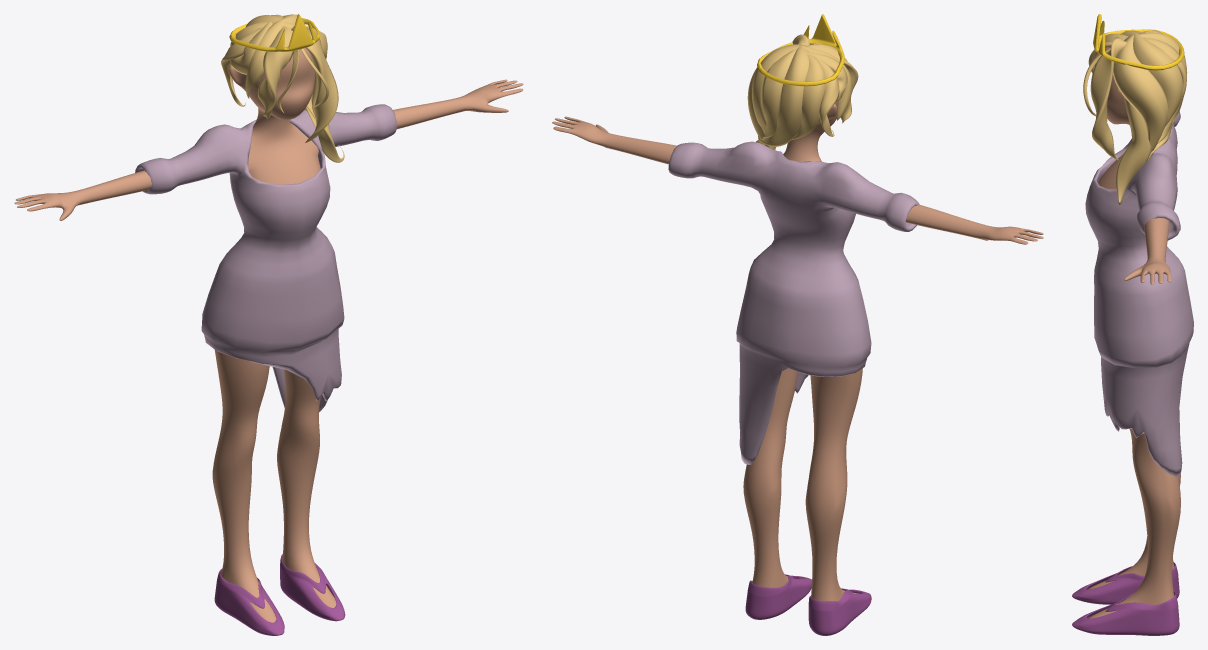
File: princess.glb
3 views of the same model, side by side, from view 1: azimuth 30°, elevation 25°; view 2: azimuth 150°, elevation 25°; view 3: azimuth 270°, elevation 25° (orthographic). The views are drawn at different scales.
Visible parts, largest first — view 1: PinkDress, FemaleBody, FemaleFeet, NurbsPath.016, NurbsPath.017, Circle, NurbsPath.020; view 2: PinkDress, FemaleBody, FemaleFeet, NurbsPath.023, NurbsPath.022, NurbsPath.024, Circle, NurbsPath.025, NurbsPath.028; view 3: PinkDress, FemaleBody, FemaleFeet, NurbsPath.026, NurbsPath.016, NurbsPath.025, NurbsPath.027, Circle, NurbsPath.024, NurbsPath.023, NurbsPath.018.
Part boxes in pixels (x1,y1,x2,y2): PinkDress: [135, 104, 397, 412]; FemaleBody: [14, 48, 523, 622]; FemaleFeet: [214, 554, 345, 635]; NurbsPath.016: [291, 25, 338, 142]; NurbsPath.017: [257, 26, 293, 119]; Circle: [229, 14, 320, 51]; NurbsPath.020: [245, 19, 284, 98]; PinkDress: [668, 141, 919, 464]; FemaleBody: [552, 101, 1043, 601]; FemaleFeet: [745, 574, 871, 635]; NurbsPath.023: [756, 46, 808, 146]; NurbsPath.022: [792, 54, 825, 139]; NurbsPath.024: [761, 49, 796, 138]; Circle: [757, 14, 844, 86]; NurbsPath.025: [752, 45, 803, 132]; NurbsPath.028: [808, 51, 839, 136]; PinkDress: [1085, 111, 1193, 476]; FemaleBody: [1088, 47, 1180, 618]; FemaleFeet: [1072, 562, 1179, 635]; NurbsPath.026: [1113, 35, 1168, 151]; NurbsPath.016: [1090, 37, 1126, 160]; NurbsPath.025: [1133, 34, 1182, 126]; NurbsPath.027: [1116, 97, 1151, 205]; Circle: [1093, 14, 1184, 70]; NurbsPath.024: [1143, 37, 1186, 143]; NurbsPath.023: [1138, 32, 1187, 160]; NurbsPath.018: [1083, 48, 1110, 116].
Bounding box in the file's own units: 3.41 × 3.92 × 0.7159.
